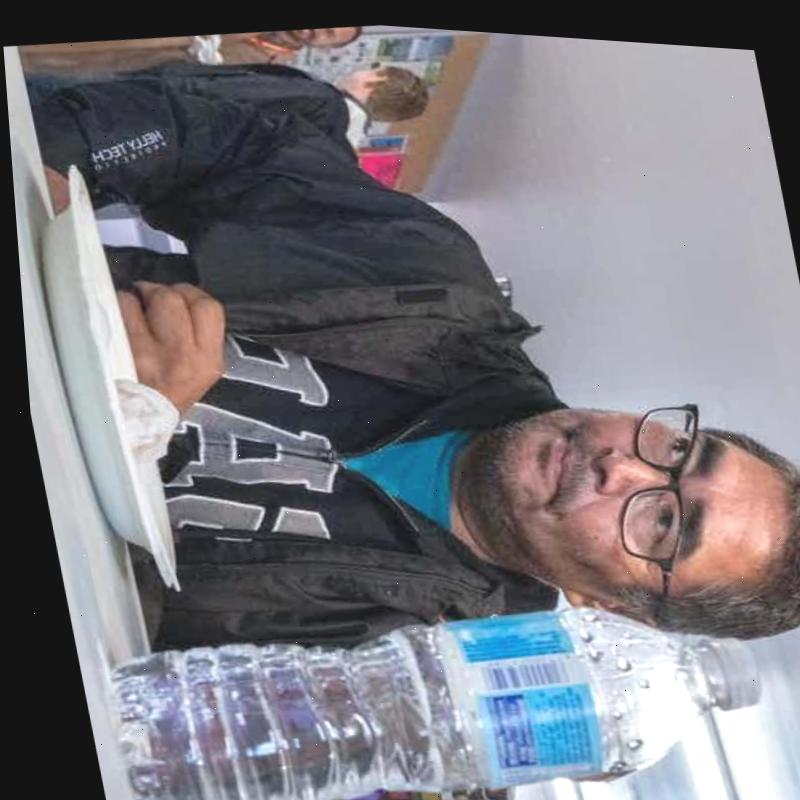botella: (79, 549, 774, 800)
